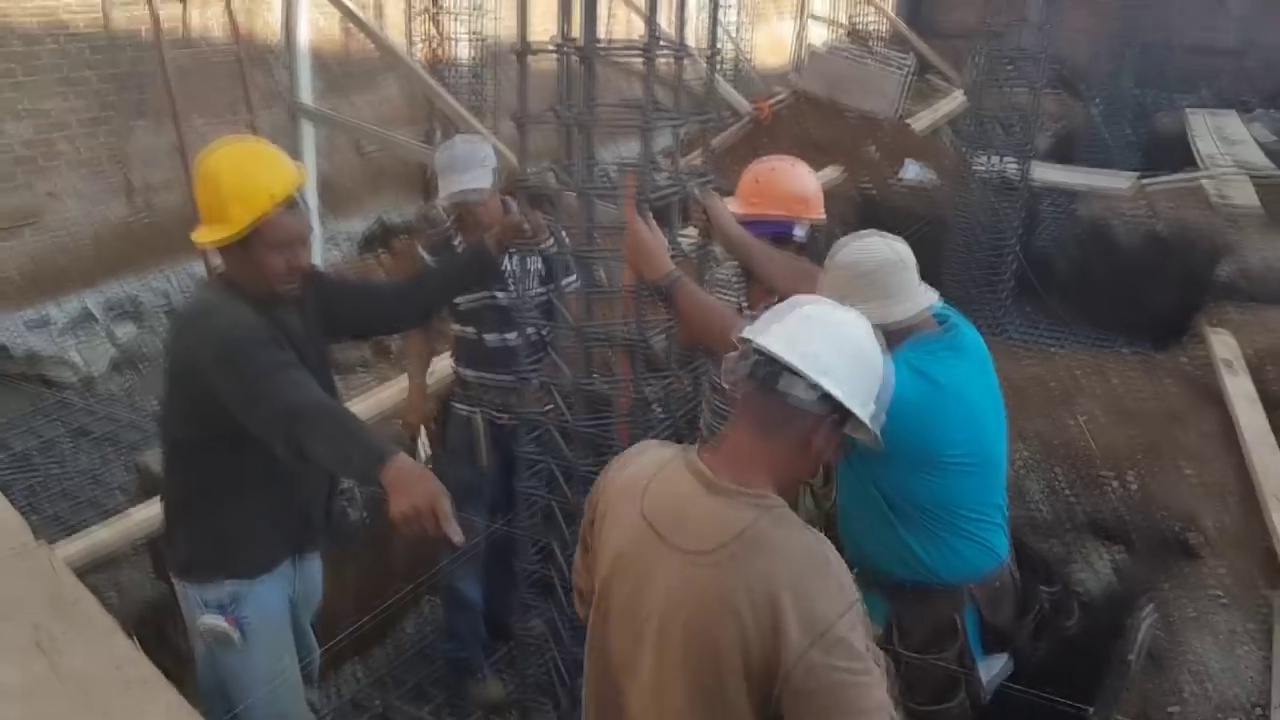helmet: (738, 293, 888, 442), (183, 129, 308, 252), (722, 153, 830, 226)
helmet-off: (820, 231, 952, 352), (429, 136, 508, 248)
helmet-on: (694, 285, 883, 500), (183, 123, 314, 305), (721, 147, 831, 292)
person: (159, 132, 548, 714), (572, 291, 900, 718), (400, 140, 577, 705), (820, 230, 1011, 718), (696, 153, 831, 443)
